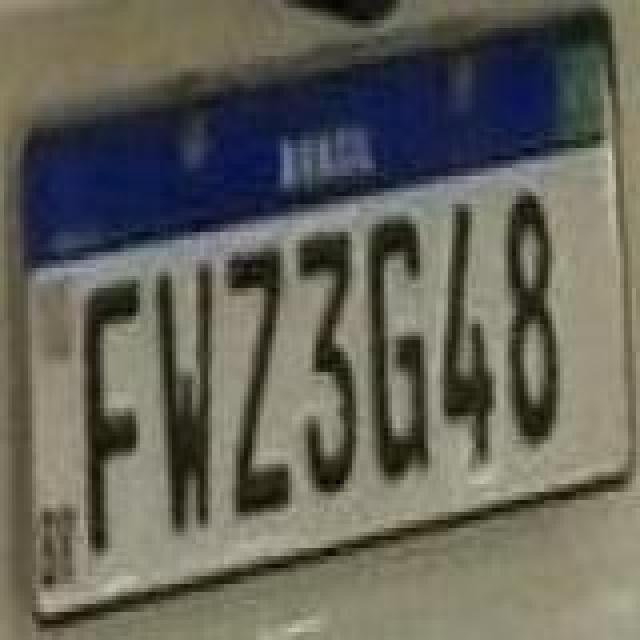3: (296, 234, 360, 502)
4: (436, 198, 492, 458)
8: (504, 190, 560, 450)
F: (80, 274, 144, 558)
G: (364, 210, 428, 486)
W: (154, 258, 214, 542)
Z: (222, 246, 290, 522)
